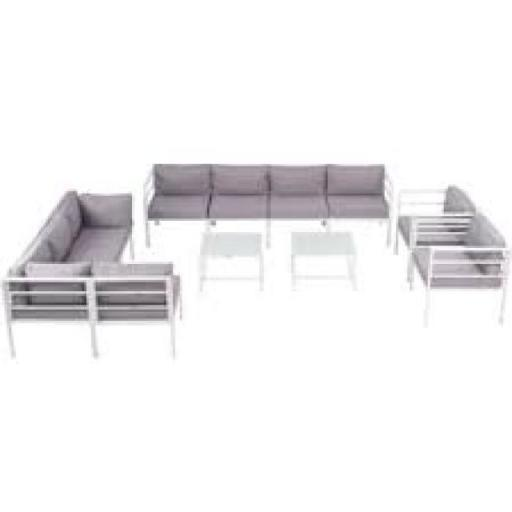sofa: (0, 136, 512, 392)
